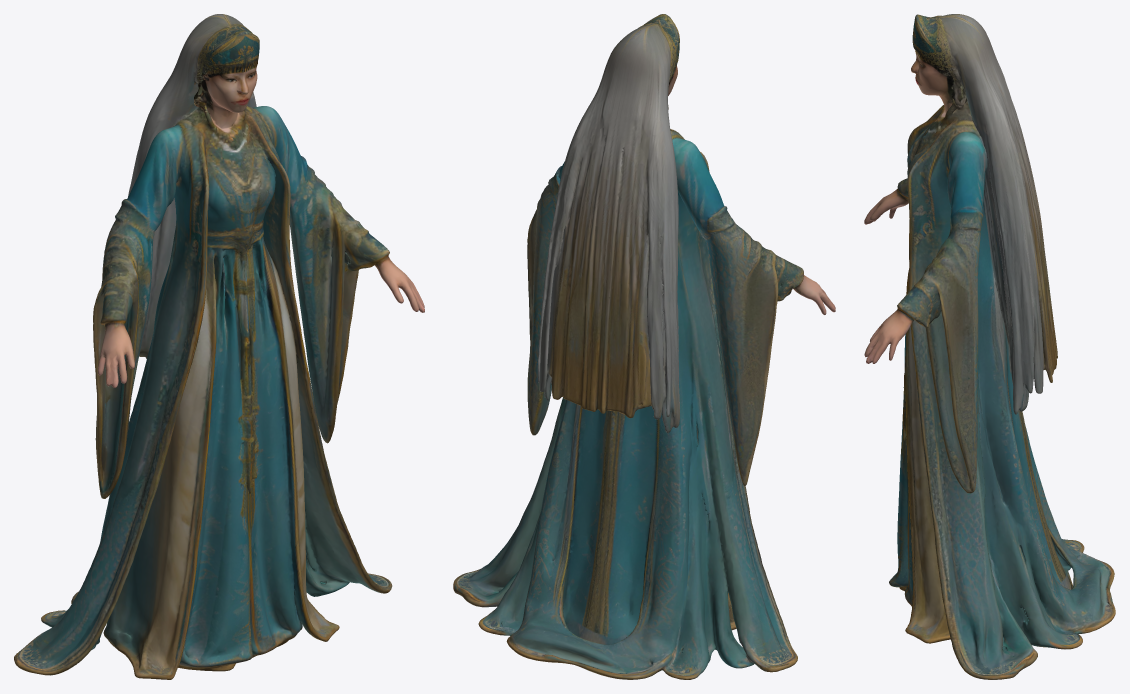
Rendered from ornate+queen+costume+3d+model.obj.
3 renders of one model, left to right at view 1: azimuth 30°, elevation 25°; view 2: azimuth 150°, elevation 25°; view 3: azimuth 270°, elevation 25°, orthographic. The views are drawn at different scales.
Visible parts, largest first — view 1: tripo_node_7ab14810-a421-43e6-aff6-633d67ed8343; view 2: tripo_node_7ab14810-a421-43e6-aff6-633d67ed8343; view 3: tripo_node_7ab14810-a421-43e6-aff6-633d67ed8343.
Boxes of the visible parts, left/top/right/bottom form: tripo_node_7ab14810-a421-43e6-aff6-633d67ed8343: left=14, top=14, right=424, bottom=679; tripo_node_7ab14810-a421-43e6-aff6-633d67ed8343: left=453, top=14, right=835, bottom=679; tripo_node_7ab14810-a421-43e6-aff6-633d67ed8343: left=864, top=14, right=1115, bottom=679.
Size of the model in its own units: 0.6117 by 1 by 0.3901.
Materials: 1 (1 with a texture image).
